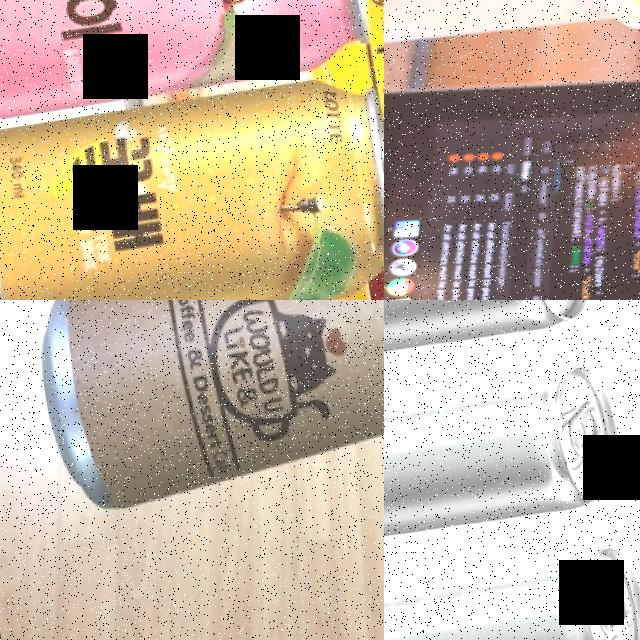can: (0, 70, 384, 300), (18, 300, 384, 529), (384, 354, 630, 562), (0, 0, 372, 129), (139, 149, 384, 300), (384, 535, 640, 640), (384, 300, 603, 381)
cup: (384, 0, 640, 84)
